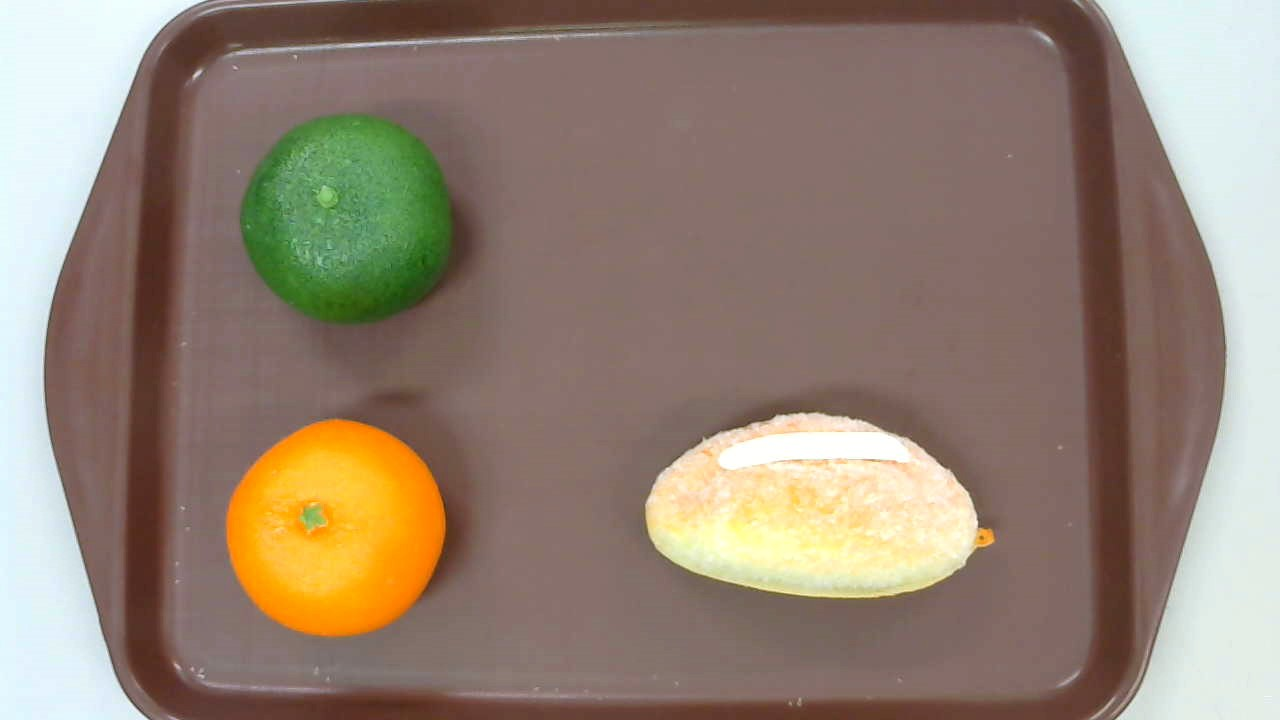coconut: (645, 411, 994, 603)
green orange: (239, 113, 455, 325)
orange: (225, 418, 446, 636)
